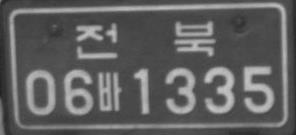0: (25, 69, 56, 116)
1: (129, 67, 159, 114)
3: (203, 65, 235, 114), (165, 67, 197, 114)
5: (243, 64, 275, 114)
6: (62, 67, 95, 115)
바: (97, 71, 123, 111)
전북_D: (76, 19, 217, 59)
